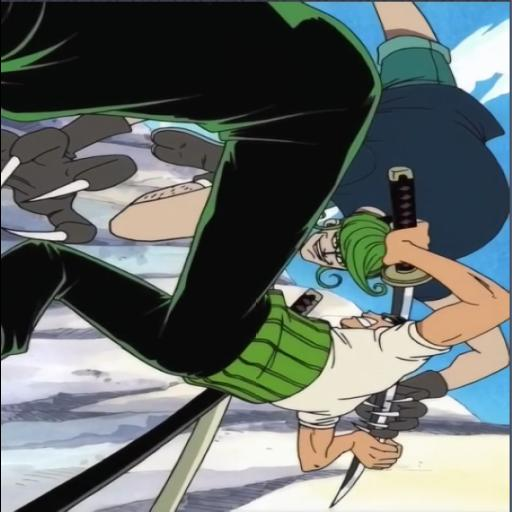Zoro: (0, 0, 512, 426)
